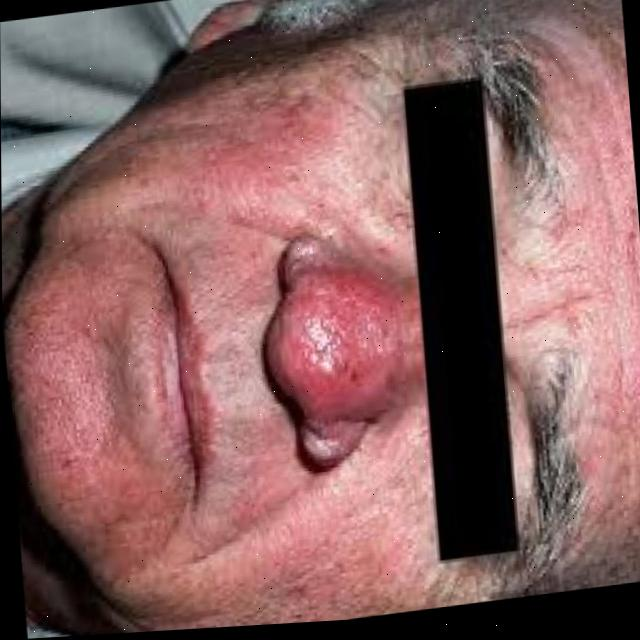Rosacea: (256, 255, 421, 429), (193, 85, 352, 184)
